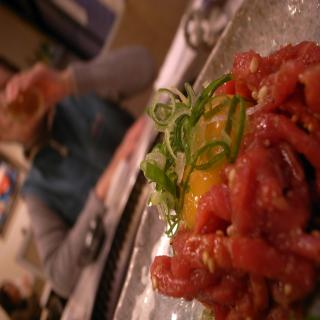tomato: (148, 40, 320, 320)
